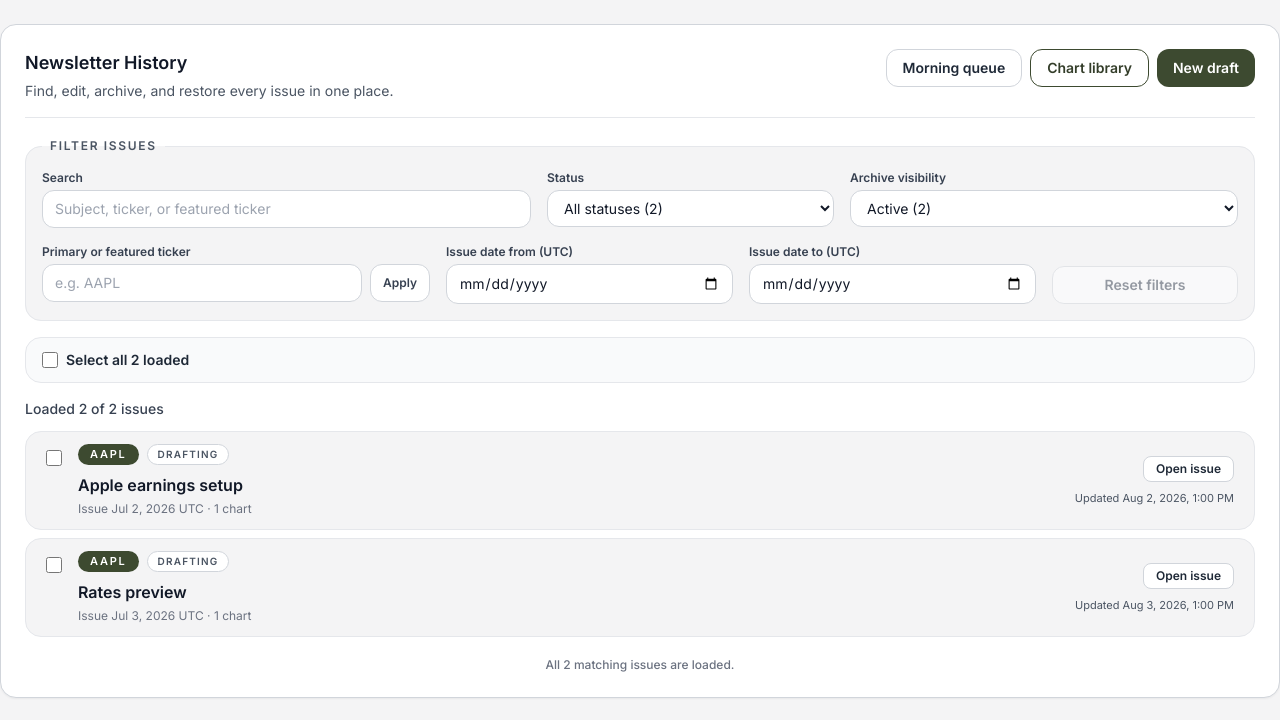
Test: NewsletterDraftsHome › archives the exact selected issues through a recoverable confirmation
Expected: the link "Apple earnings setup" is shown, [78,475,243,495]
Click the checkbox named "Select all 2 loaded issues" at (50, 360), box [42,352,58,368]
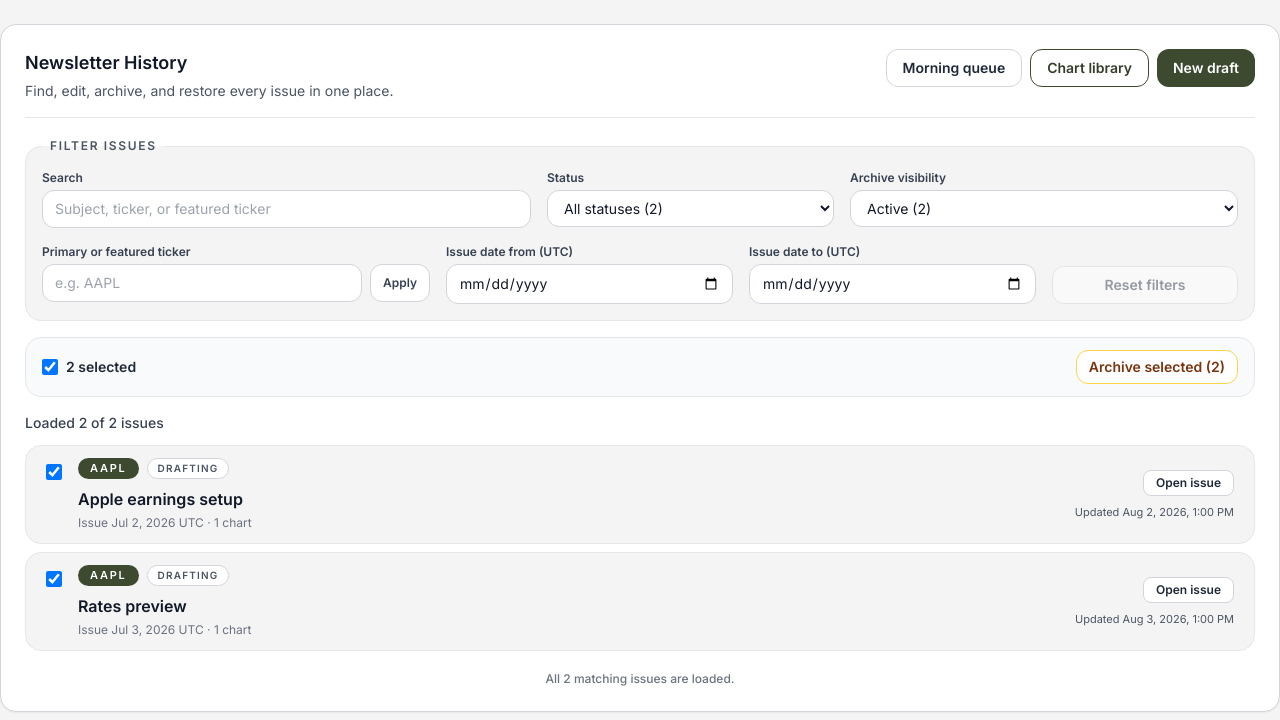
Click the button "Archive selected (2)" at (1157, 367), box [1076,350,1238,384]
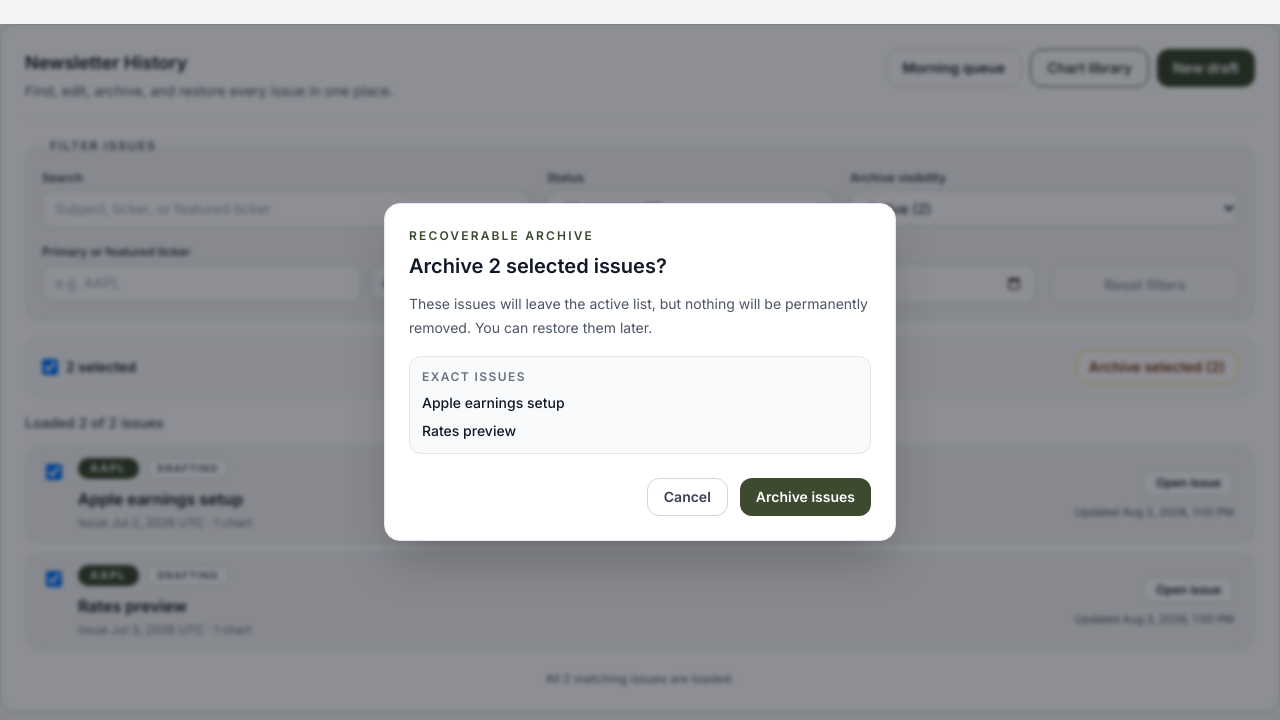
Expected: the list item "Apple earnings setup" is shown, [422,394,564,411]
Expected: the list item "Rates preview" is shown, [422,422,516,439]
Expected: the text "nothing will be permanently removed" is shown, [409,295,868,336]
Click the button "Archive issues" at (805, 497), box [740,478,871,516]
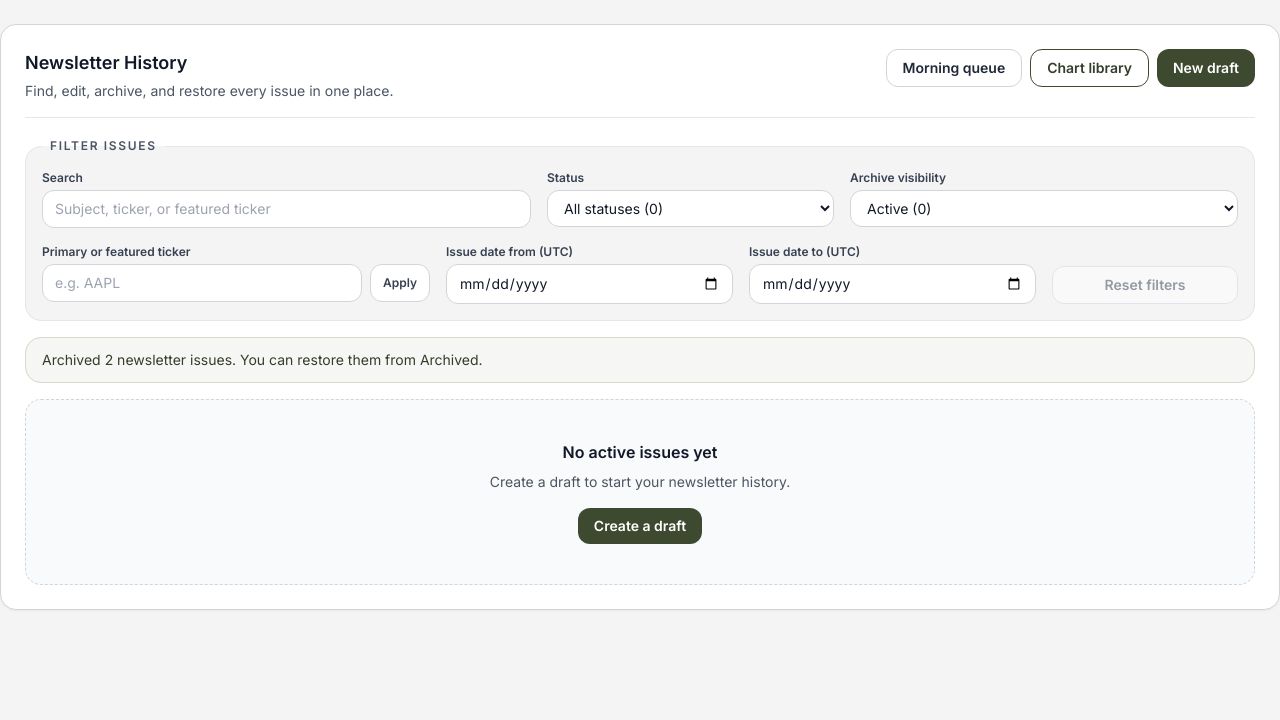
Expected: the text "Archived 2 newsletter issues. You can restore them from Archived." is shown, [25,337,1255,383]
